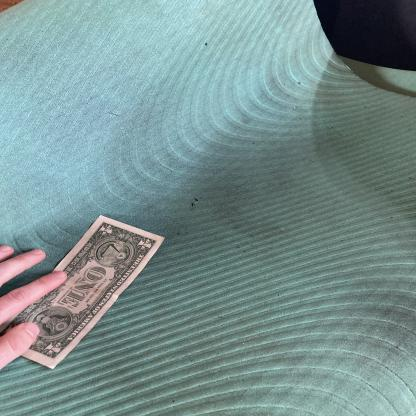one-back: (0, 215, 167, 372)
